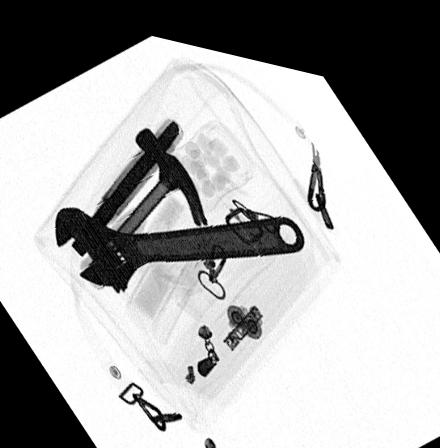Hammer: (92, 117, 212, 260)
Pliers: (65, 105, 191, 259)
Wrench: (52, 199, 304, 288)
